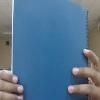notebook: (10, 0, 89, 99)
